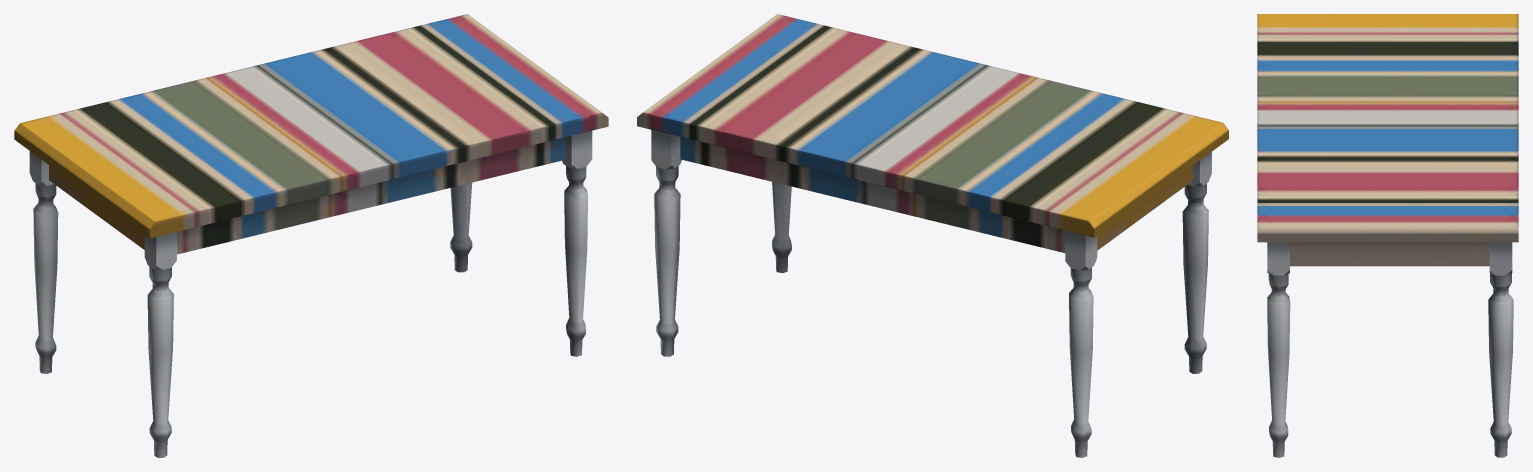
Rendered from furni_0200606.FBX.
The picture shows the model from 3 angles, left to right: view 1: azimuth 30°, elevation 25°; view 2: azimuth 150°, elevation 25°; view 3: azimuth 270°, elevation 25°; orthographic projection. The views are drawn at different scales.
Visible parts, largest first — view 1: furni_0200606; view 2: furni_0200606; view 3: furni_0200606.
Boxes of the visible parts, x1=… form: furni_0200606: x1=14, y1=14, x2=608, y2=457; furni_0200606: x1=637, y1=14, x2=1228, y2=457; furni_0200606: x1=1257, y1=14, x2=1518, y2=457.
Size of the model in its own units: 157 by 80.16 by 80.
1 material, 1 textured.
